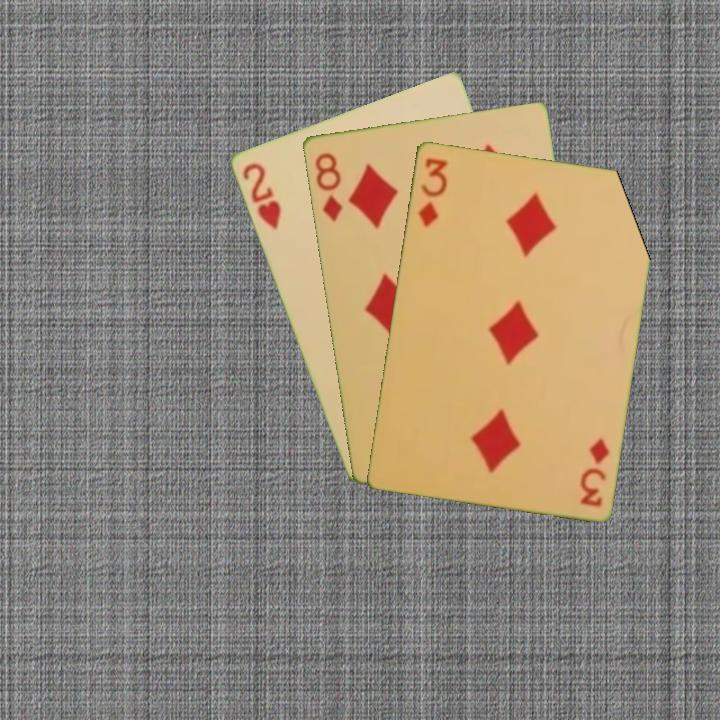2h: (238, 158, 284, 232)
3d: (413, 154, 450, 229), (576, 433, 612, 510)
8d: (311, 149, 345, 224)
